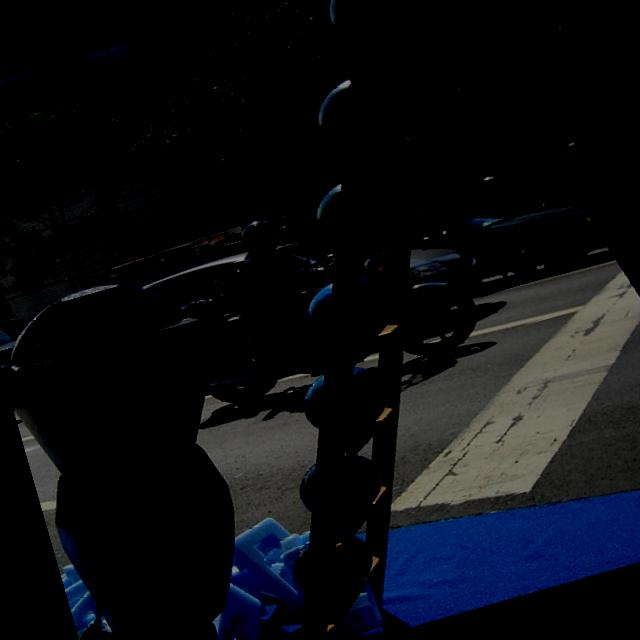Vehicle: (140, 187, 490, 379), (182, 225, 484, 420), (82, 200, 334, 310), (404, 182, 610, 310), (452, 154, 560, 204), (0, 305, 32, 363)
